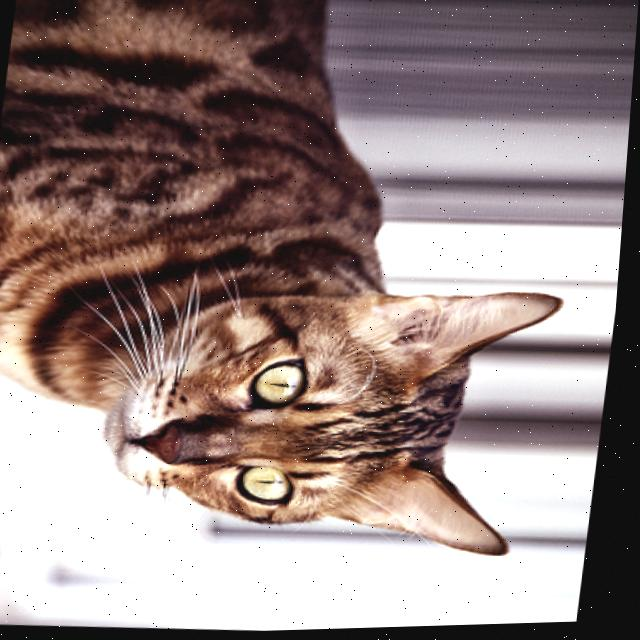Bengal: (0, 0, 607, 588)
